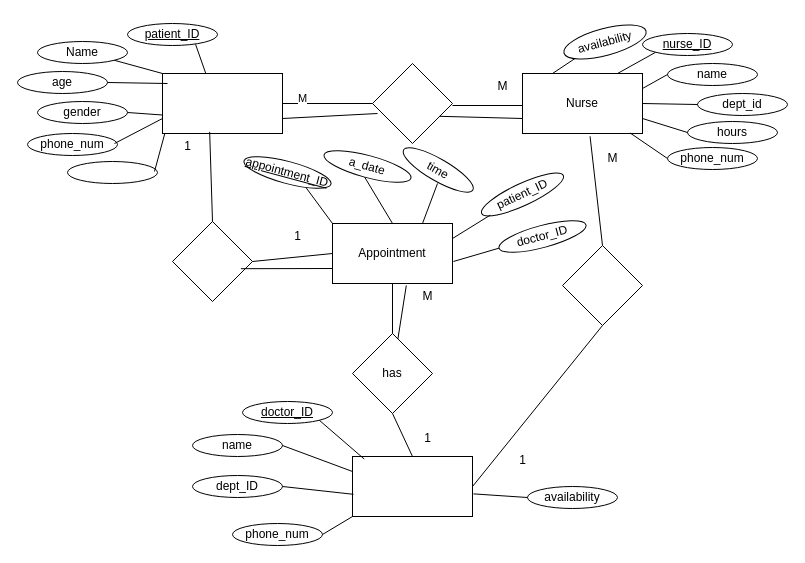
This 805x563 diagram has some shape labels left out. The box of each missing label's shape, as (x1, y1, x2, y2) in pixels:
assigned: (372, 62, 452, 144)
books: (172, 220, 252, 302)
Doctor: (352, 456, 472, 516)
medical_history: (66, 160, 158, 184)
Patient: (162, 72, 282, 134)
works with: (562, 244, 642, 326)
